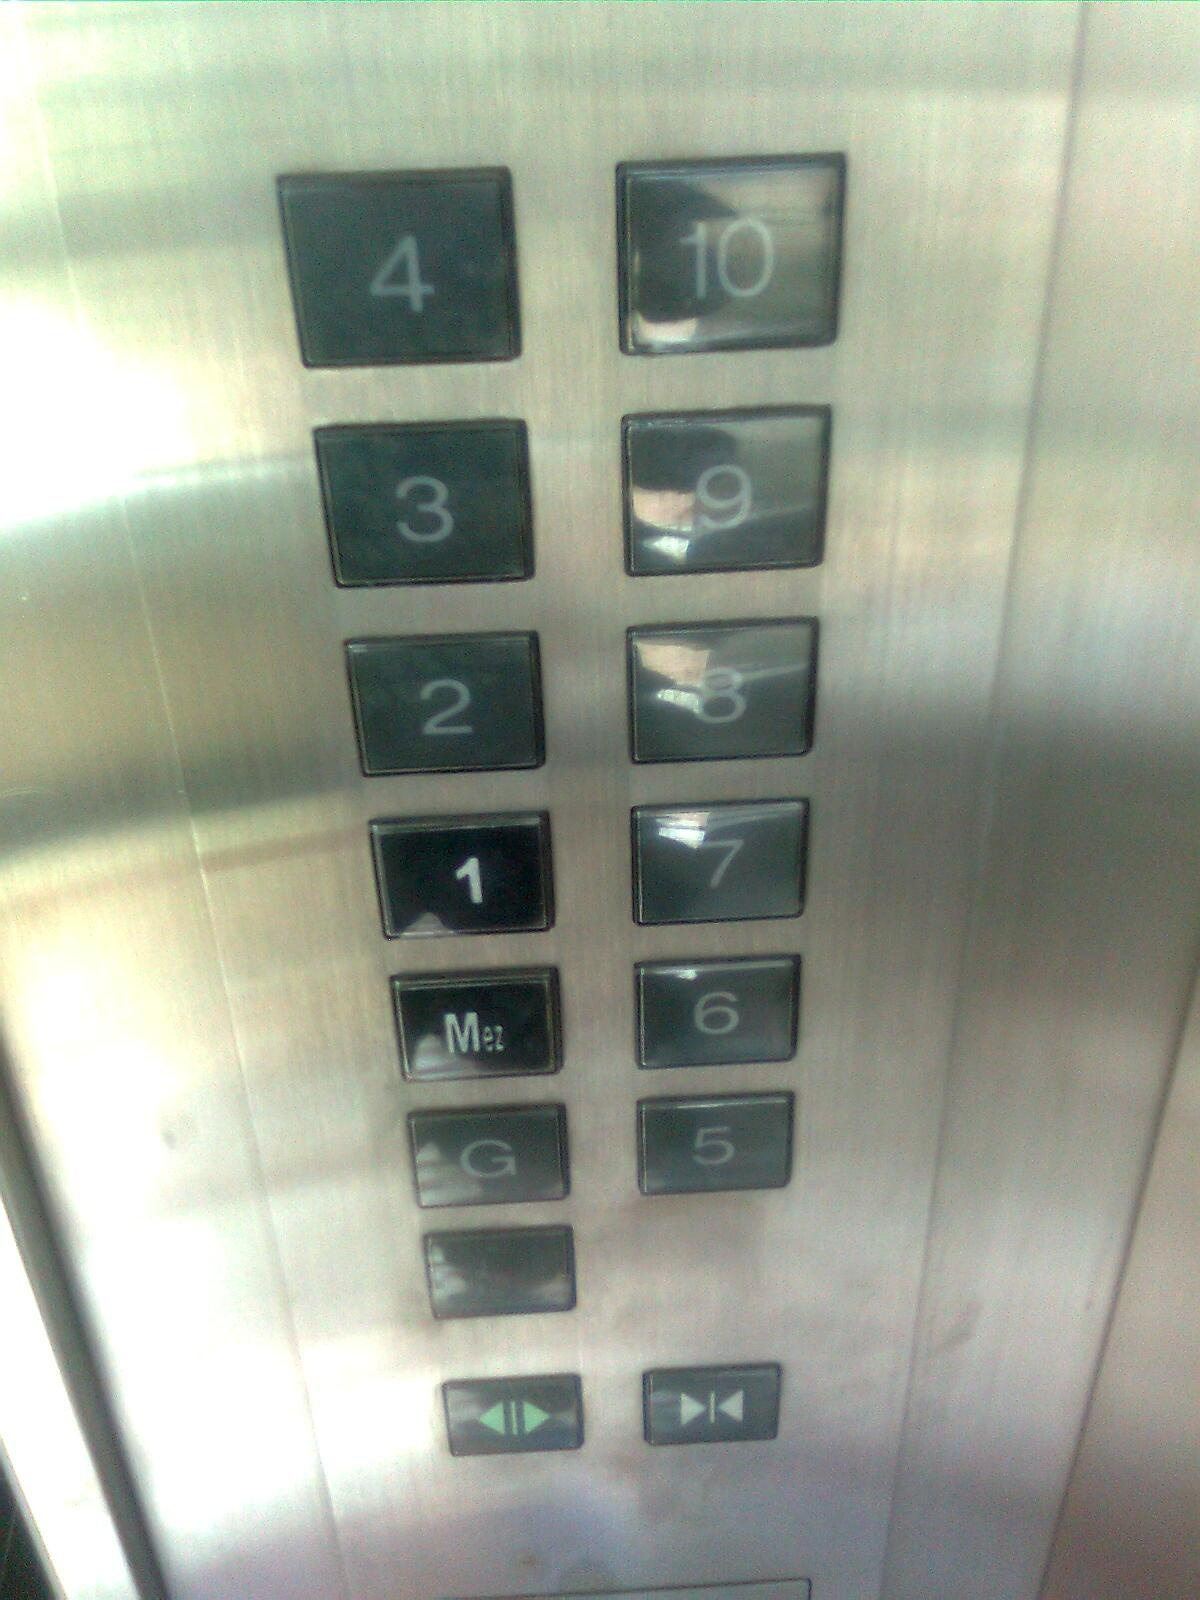1: (361, 808, 563, 944)
10: (606, 146, 858, 362)
2: (340, 624, 547, 785)
3: (310, 406, 539, 596)
4: (271, 154, 529, 374)
5: (632, 1085, 799, 1203)
6: (632, 947, 807, 1073)
7: (621, 787, 817, 931)
8: (616, 606, 829, 774)
9: (616, 396, 837, 590)
G: (401, 1101, 577, 1213)
close: (635, 1356, 784, 1453)
empty: (421, 1218, 577, 1330)
open: (431, 1367, 591, 1465)
text_Mez: (383, 954, 568, 1092)
